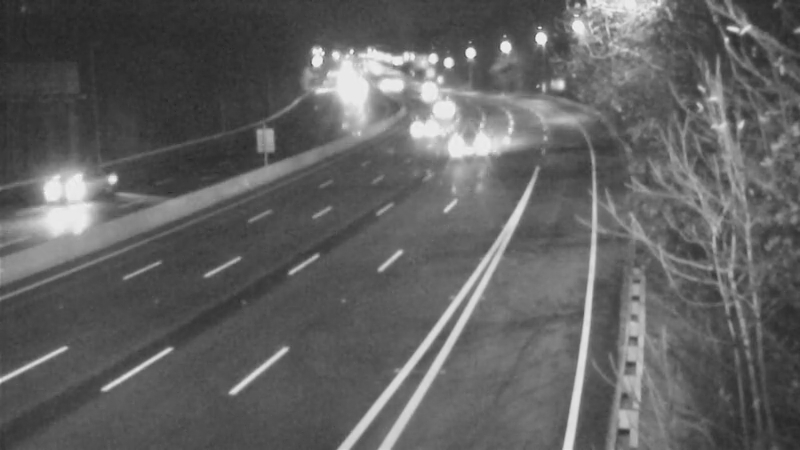vehicle: (29, 147, 109, 227), (405, 69, 455, 119), (418, 84, 468, 134), (398, 103, 448, 153), (439, 113, 489, 163)
